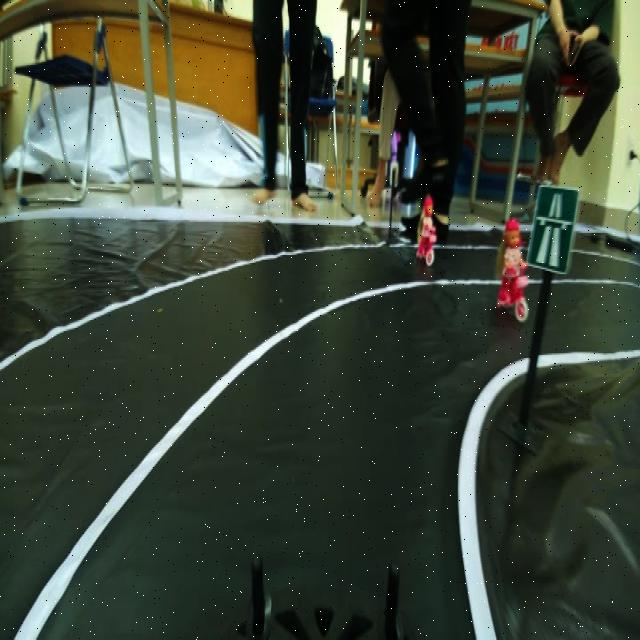highway_entry: (530, 177, 578, 278)
pedestrian: (496, 210, 532, 311)
